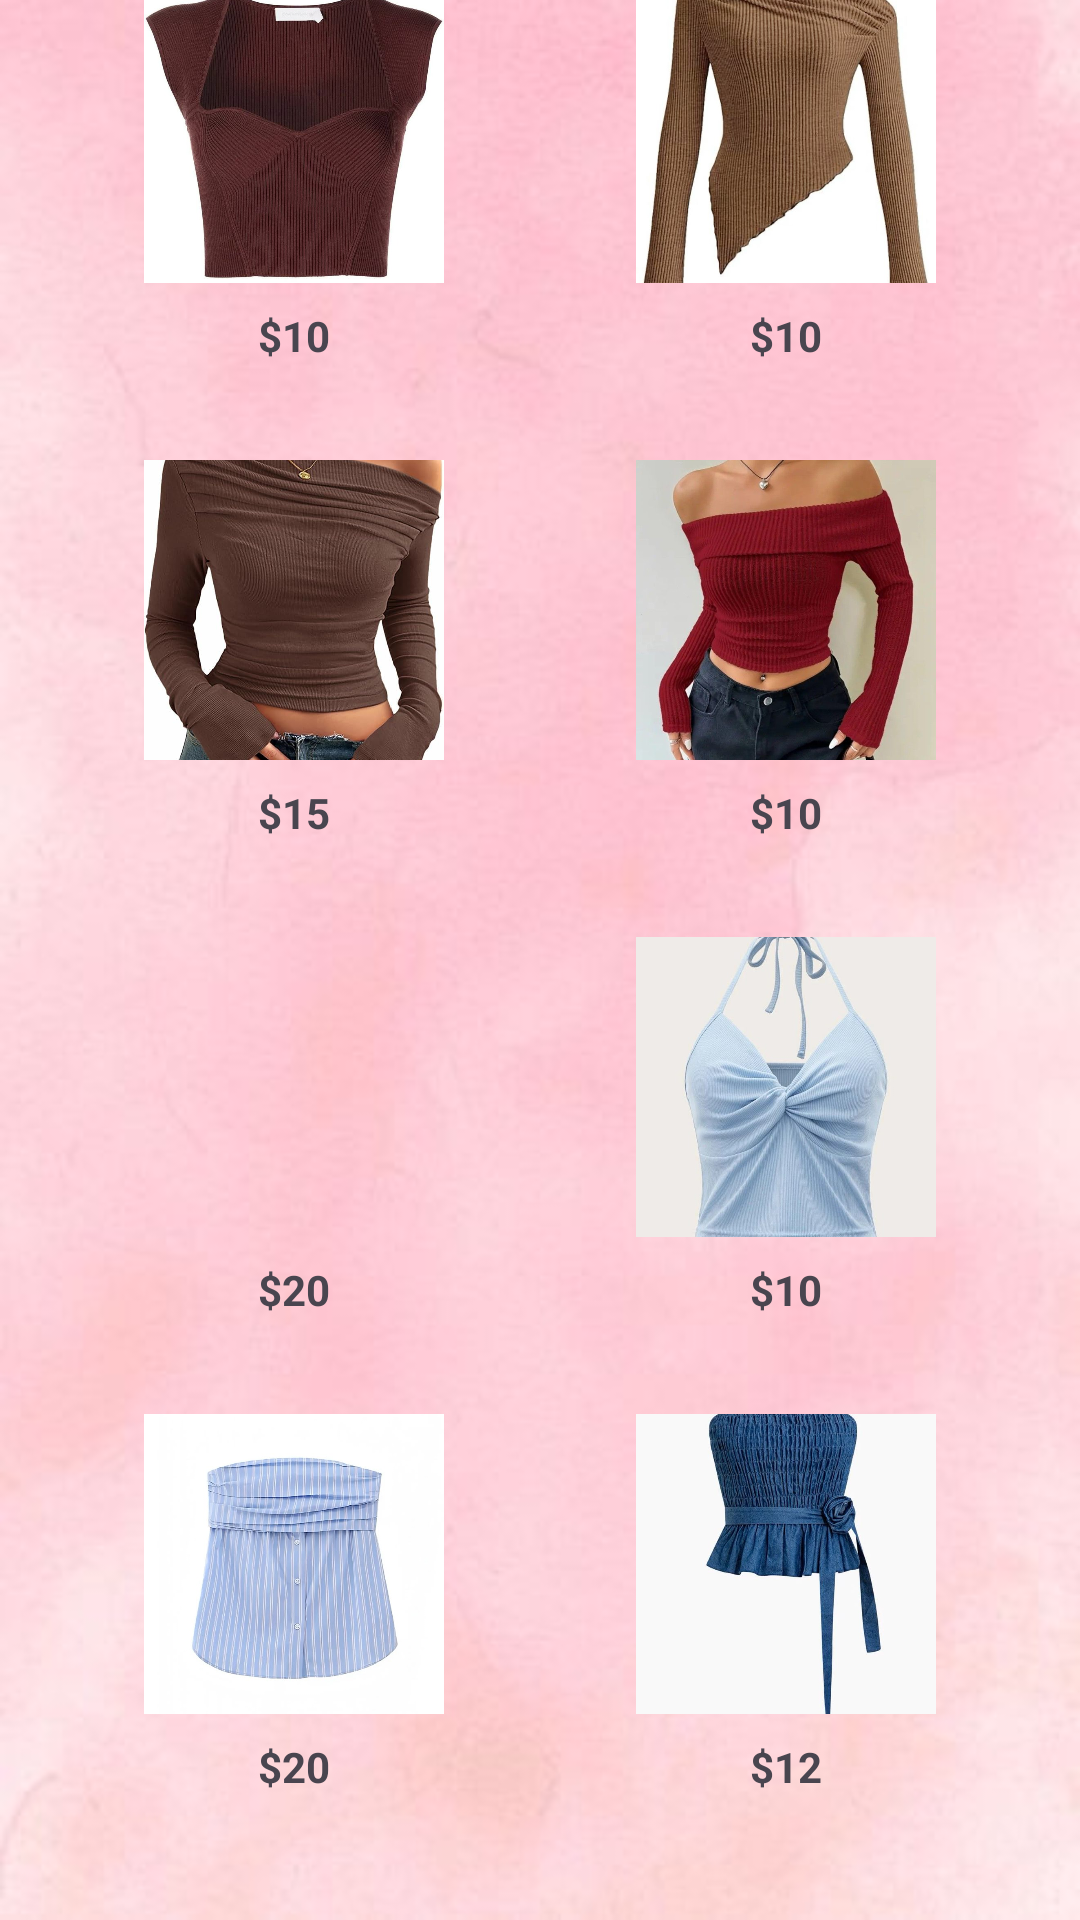

Point at icon controls on the screen. Image size 1080px×1920px, points as (x=x, y=y).
tees: (x=294, y=141), (x=786, y=141), (x=294, y=610), (x=786, y=610), (x=786, y=1087), (x=294, y=1564), (x=786, y=1564)
